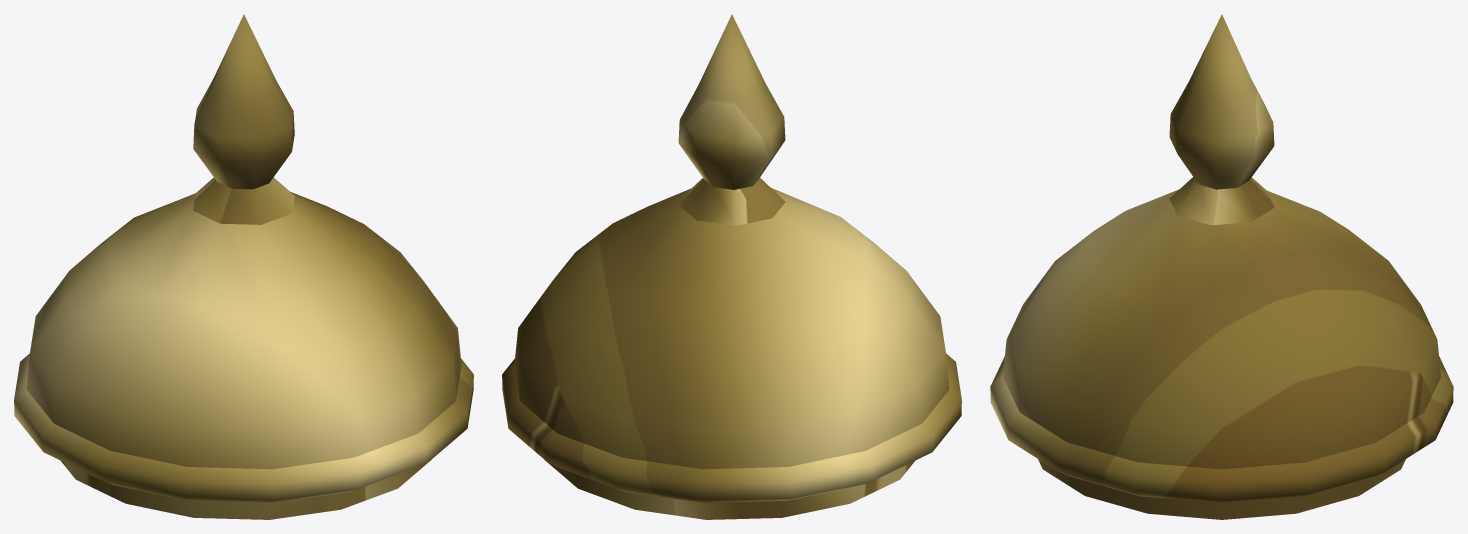
The model's file is Turkish_SugarPot_Lid.fbx.
3 renders of one model, left to right at view 1: azimuth 30°, elevation 25°; view 2: azimuth 150°, elevation 25°; view 3: azimuth 270°, elevation 25°, orthographic.
Visible parts, largest first — view 1: Turkish_SugarPot_Lid; view 2: Turkish_SugarPot_Lid; view 3: Turkish_SugarPot_Lid.
Boxes of the visible parts, bbox=[...] form: Turkish_SugarPot_Lid: bbox=[14, 14, 473, 519]; Turkish_SugarPot_Lid: bbox=[502, 14, 961, 519]; Turkish_SugarPot_Lid: bbox=[990, 14, 1453, 519].
Size of the model in its own units: 22.79 by 23.02 by 22.79.
